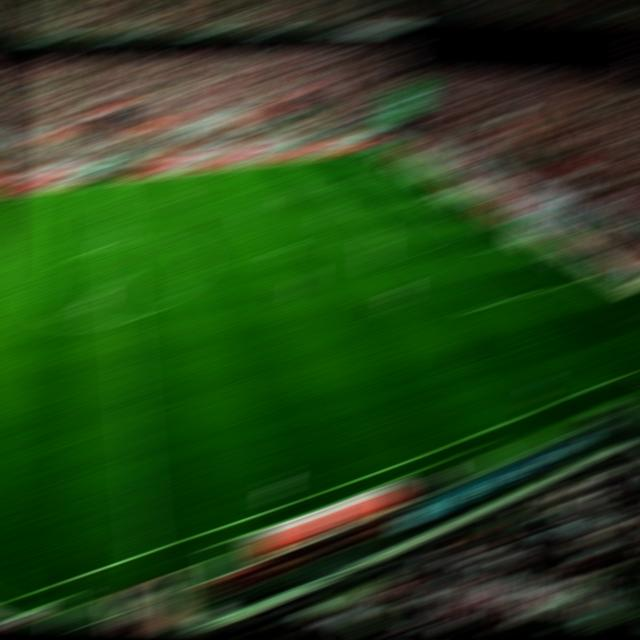bigarea_bottom_inner: (466, 305, 492, 312)
bigarea_bottom_outter: (566, 276, 594, 285)
bigarea_top_inner: (320, 179, 348, 186)
bigarea_top_outter: (401, 170, 428, 178)
bottom_arc_area_intersection: (404, 251, 431, 258)
corner: (366, 149, 392, 157)
halfcircle_bottom: (112, 316, 138, 327)
halfcircle_top: (106, 240, 132, 248)
midline_bottom_intersection: (128, 545, 164, 562)
midline_top_intersection: (100, 180, 128, 188)
smallarea_bottom_inner: (479, 243, 506, 250)
smallarea_bottom_outter: (508, 238, 535, 245)
smallarea_top_inner: (409, 193, 437, 201)
smallarea_top_outter: (434, 191, 461, 200)
top_arc_area_intersection: (352, 208, 379, 215)
